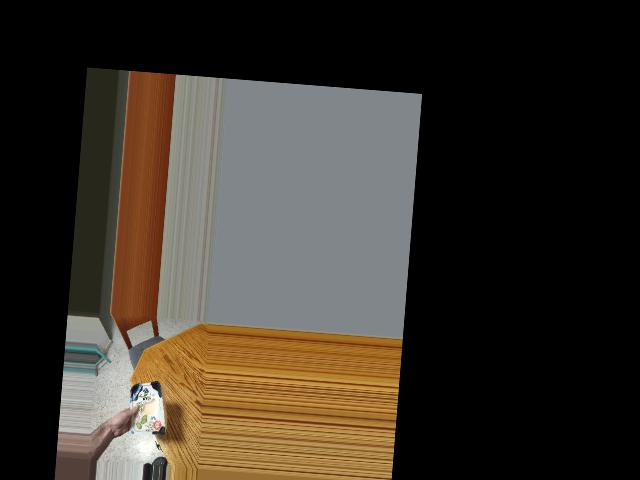cheese: (120, 382, 167, 429)
